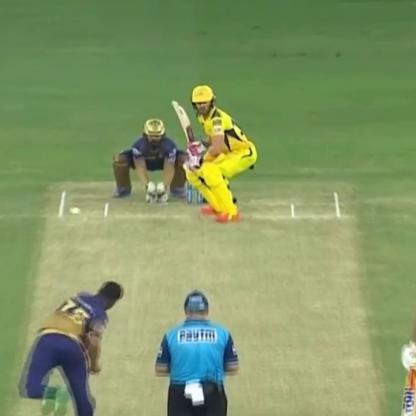ball: (68, 204, 86, 219)
bat: (174, 92, 198, 166)
pitch: (23, 180, 383, 416)
